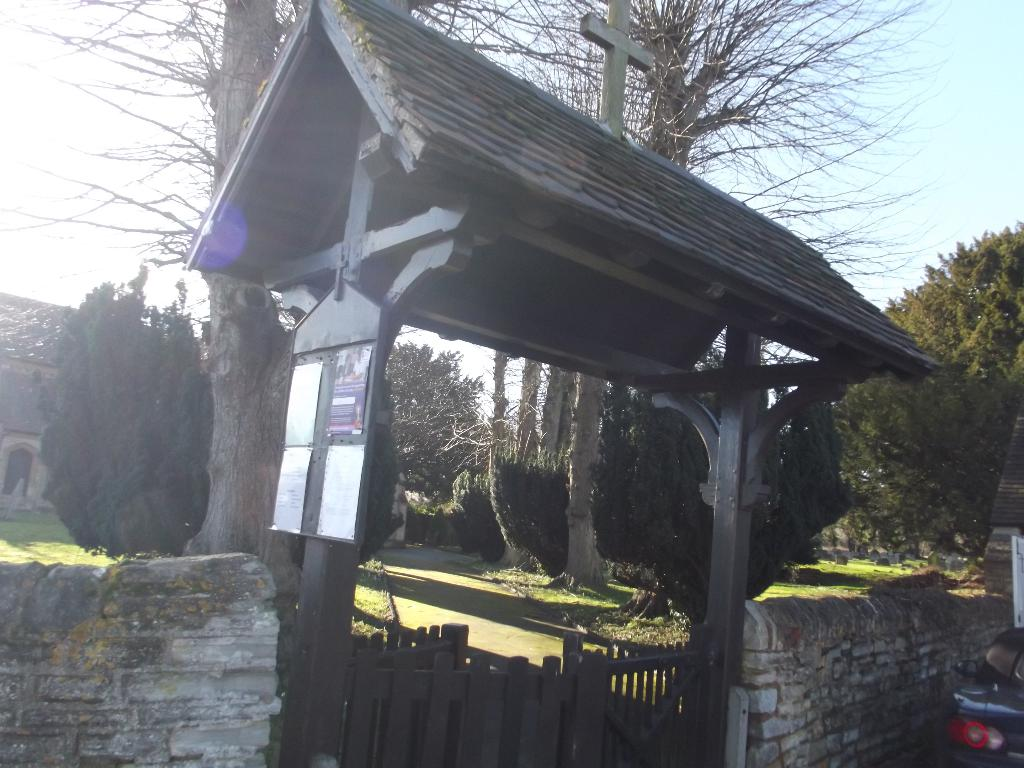Tree: (100, 0, 1024, 701), (417, 3, 942, 292), (585, 327, 853, 632), (828, 224, 1023, 575), (31, 261, 212, 556), (382, 339, 492, 558), (487, 432, 561, 565)
